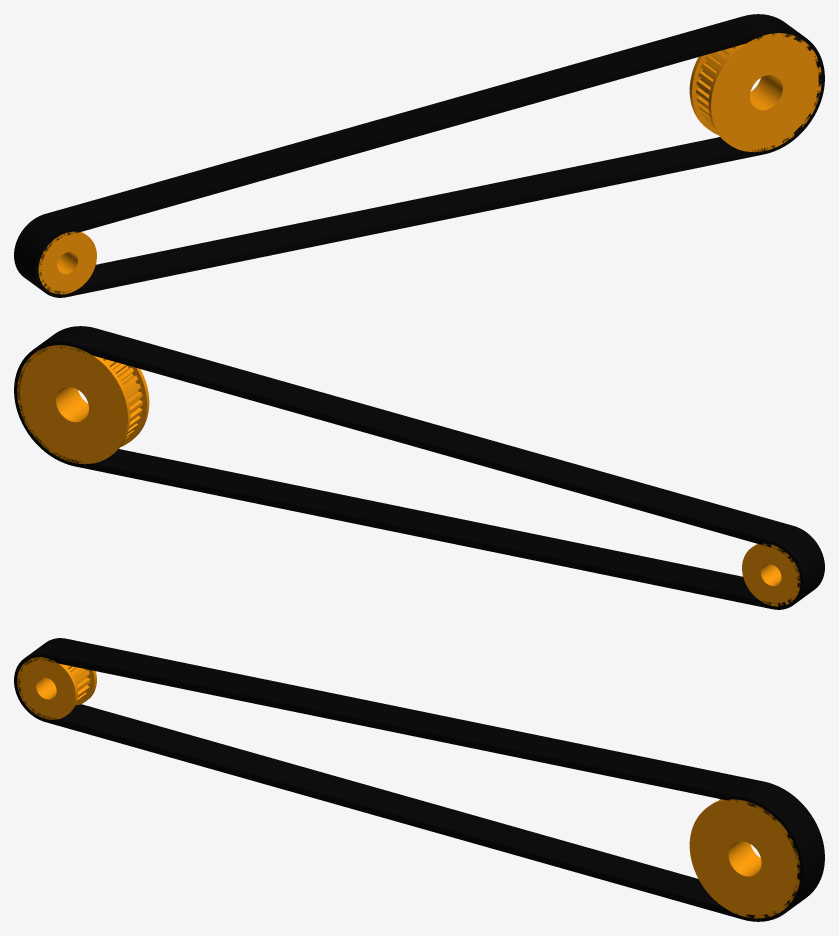
File: assembly.glb
3 views of the same model, one above another, from view 1: azimuth 30°, elevation 25°; view 2: azimuth 150°, elevation 25°; view 3: azimuth 330°, elevation 25° (orthographic).
Parts seen in each view (by area): view 1: belt/belt-loop-12.732395447351628-25.464790894703256/belt, pulley-b/GT2-40T-9-b8/flange-top, pulley-a/GT2-20T-9-b5/flange-top, pulley-b/GT2-40T-9-b8/toothed-body, pulley-b/GT2-40T-9-b8/flange-bottom; view 2: belt/belt-loop-12.732395447351628-25.464790894703256/belt, pulley-b/GT2-40T-9-b8/flange-bottom, pulley-a/GT2-20T-9-b5/flange-bottom, pulley-b/GT2-40T-9-b8/toothed-body, pulley-b/GT2-40T-9-b8/flange-top; view 3: belt/belt-loop-12.732395447351628-25.464790894703256/belt, pulley-b/GT2-40T-9-b8/flange-top, pulley-a/GT2-20T-9-b5/flange-top, pulley-a/GT2-20T-9-b5/toothed-body, pulley-b/GT2-40T-9-b8/toothed-body.
Part boxes in pixels (left/top/right/bottom): belt/belt-loop-12.732395447351628-25.464790894703256/belt: left=14, top=14, right=824, bottom=297; pulley-b/GT2-40T-9-b8/flange-top: left=708, top=33, right=821, bottom=152; pulley-a/GT2-20T-9-b5/flange-top: left=38, top=231, right=96, bottom=294; pulley-b/GT2-40T-9-b8/toothed-body: left=696, top=46, right=780, bottom=126; pulley-b/GT2-40T-9-b8/flange-bottom: left=689, top=53, right=763, bottom=134; belt/belt-loop-12.732395447351628-25.464790894703256/belt: left=14, top=326, right=824, bottom=609; pulley-b/GT2-40T-9-b8/flange-bottom: left=17, top=345, right=130, bottom=464; pulley-a/GT2-20T-9-b5/flange-bottom: left=742, top=543, right=800, bottom=606; pulley-b/GT2-40T-9-b8/toothed-body: left=58, top=358, right=142, bottom=438; pulley-b/GT2-40T-9-b8/flange-top: left=75, top=365, right=149, bottom=446; belt/belt-loop-12.732395447351628-25.464790894703256/belt: left=14, top=638, right=824, bottom=921; pulley-b/GT2-40T-9-b8/flange-top: left=689, top=799, right=800, bottom=918; pulley-a/GT2-20T-9-b5/flange-top: left=17, top=657, right=77, bottom=719; pulley-a/GT2-20T-9-b5/toothed-body: left=38, top=665, right=90, bottom=701; pulley-b/GT2-40T-9-b8/toothed-body: left=731, top=841, right=761, bottom=874.
Bounding box in the file's own units: 0.192 × 0.0284 × 0.009.
